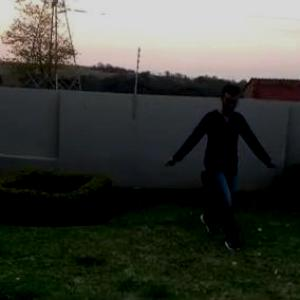land: (172, 80, 279, 237)
